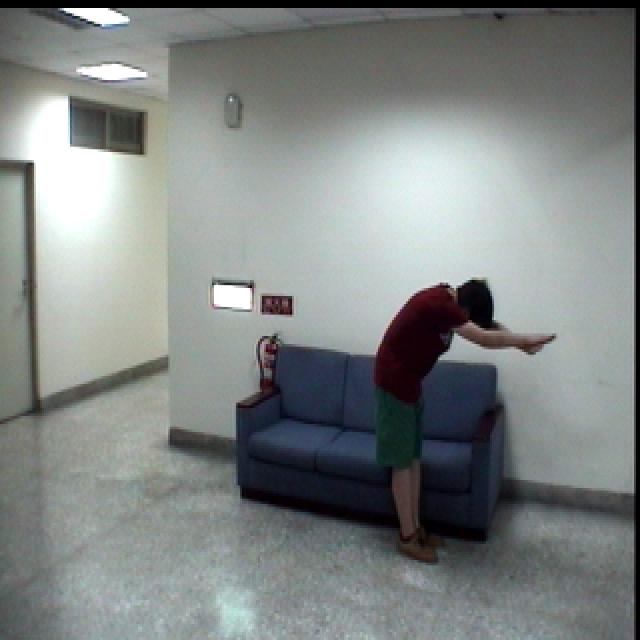bend: (367, 274, 559, 565)
